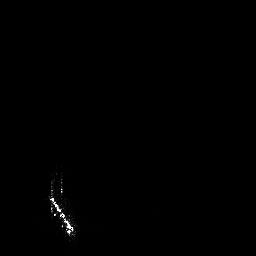ship: (48, 169, 79, 240)
